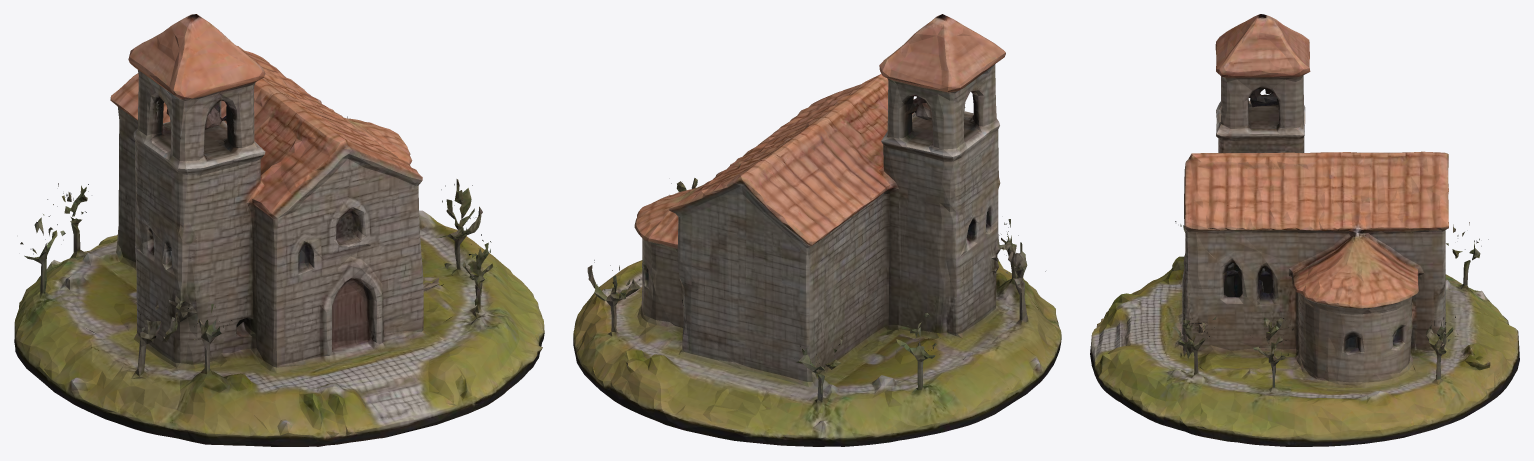
Rendered from church_stone_island_lod0.glb.
The picture shows the model from 3 angles, left to right: view 1: azimuth 30°, elevation 25°; view 2: azimuth 150°, elevation 25°; view 3: azimuth 270°, elevation 25°; orthographic projection. The views are drawn at different scales.
Visible parts, largest first — view 1: church_stone_island_lod0; view 2: church_stone_island_lod0; view 3: church_stone_island_lod0.
Boxes of the visible parts, <box> form: church_stone_island_lod0: <box>14,14,544,446</box>; church_stone_island_lod0: <box>573,14,1061,446</box>; church_stone_island_lod0: <box>1090,14,1519,446</box>.
Size of the model in its own units: 9.94 by 7.74 by 10.
1 material, 1 textured.
